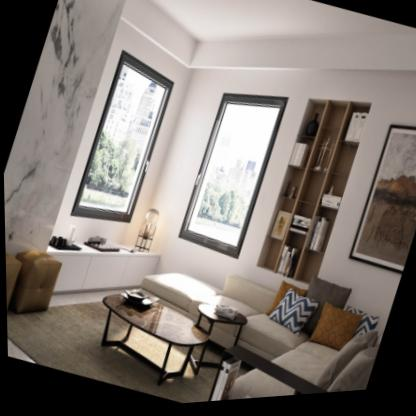Window: (179, 99, 288, 268), (68, 53, 173, 225)
